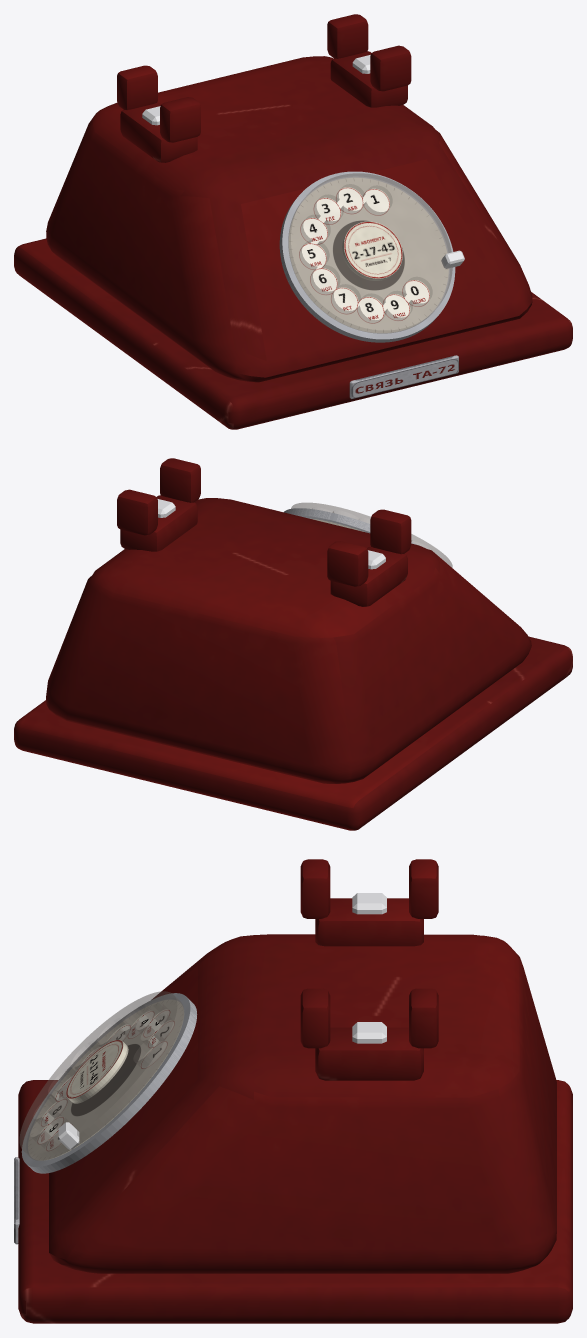
The model's file is phone_body.glb.
3 views of the same model, one above another, from view 1: azimuth 30°, elevation 25°; view 2: azimuth 150°, elevation 25°; view 3: azimuth 270°, elevation 25° (orthographic). The views are drawn at different scales.
Parts seen in each view (by area): view 1: PhoneBody; view 2: PhoneBody; view 3: PhoneBody.
Part boxes in pixels (bbox=[...]): PhoneBody: bbox=[14, 14, 572, 429]; PhoneBody: bbox=[14, 458, 572, 830]; PhoneBody: bbox=[14, 859, 572, 1323].
Bounding box in the file's own units: 0.205 × 0.13 × 0.2268.
6 materials, 4 textured.
